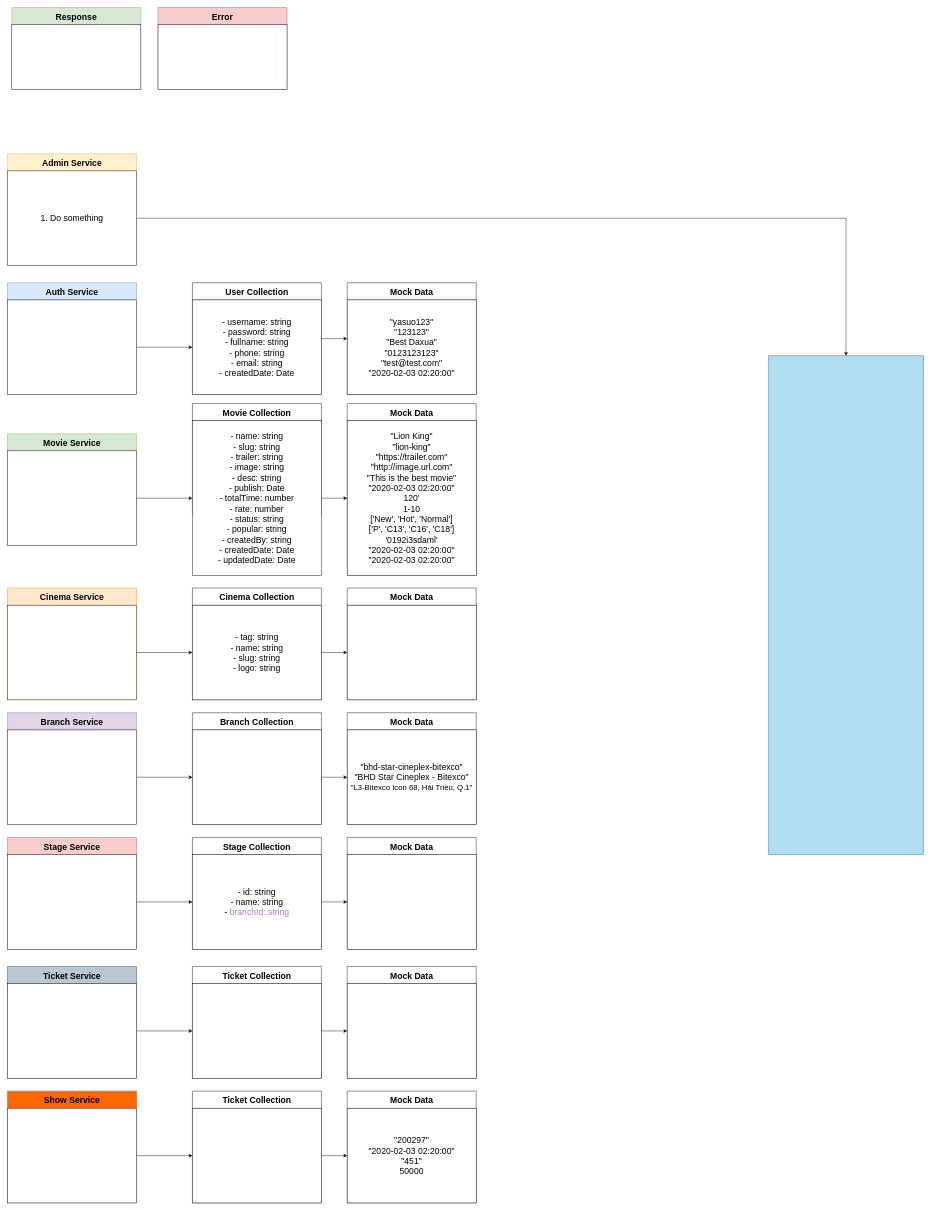
This 931x1210 diagram has some shape labels left out. The centre of each missing label's shape, as x and y in pixels:
"16099" "123" 70000 "ewirj10293idlfk": point (411, 1030)
"234" "Rạp 2": point (411, 901)
"BHDStar" "BHD Star Cineplex" "bhd-star-cineplex" "http://logo.url.com": point (411, 652)
- movieId: string - time: Date - stageId: string - amount: number: point (256, 1155)
- showId: string - seatId: string - amount: number - userId: string: point (256, 1030)
- tag: string - name: string - address: string - cinemaId: string: point (256, 777)
1. CreateShow: point (72, 1155)
1. CreateTicket: point (72, 1030)
1. GetBranchs 2. CRUD Branch: point (72, 777)
1. GetCinemas 2. CRUD Cinema: point (72, 652)
1. GetMovies (Pagination, Date) 2. CRUD Movie: point (72, 497)
1. GetStages 2. CRUD Stage: point (72, 901)
1. LogIn 2. SignUp 3. LogOut 4. CRUD User: point (72, 347)
message: 'Success' data: { token: 'sadasdasd' }: point (76, 56)
message: 'Success' errors: { field: value }: point (222, 56)
NATS STREAMING SERVER: point (845, 605)
